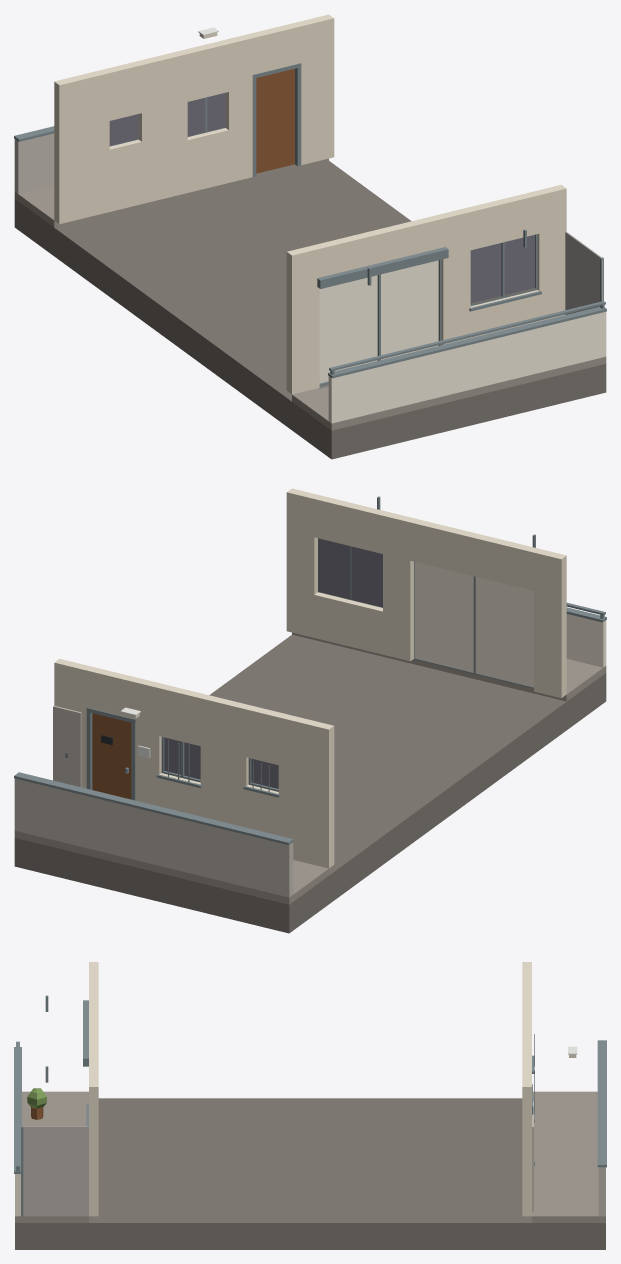
The model's file is tb_mansion_module_ground_01.fbx.
3 views of the same model, one above another, from view 1: azimuth 30°, elevation 25°; view 2: azimuth 150°, elevation 25°; view 3: azimuth 270°, elevation 25° (orthographic). The views are drawn at different scales.
Parts seen in each view (by area): view 1: tb_mansion_module_ground_01; view 2: tb_mansion_module_ground_01; view 3: tb_mansion_module_ground_01.
Part boxes in pixels (bbox=[...]): tb_mansion_module_ground_01: bbox=[14, 14, 606, 459]; tb_mansion_module_ground_01: bbox=[14, 488, 606, 933]; tb_mansion_module_ground_01: bbox=[14, 962, 606, 1249].
Size of what is drawn, in the model's own units: 6.02 by 3.65 by 12.04.
3 materials, 3 textured.
